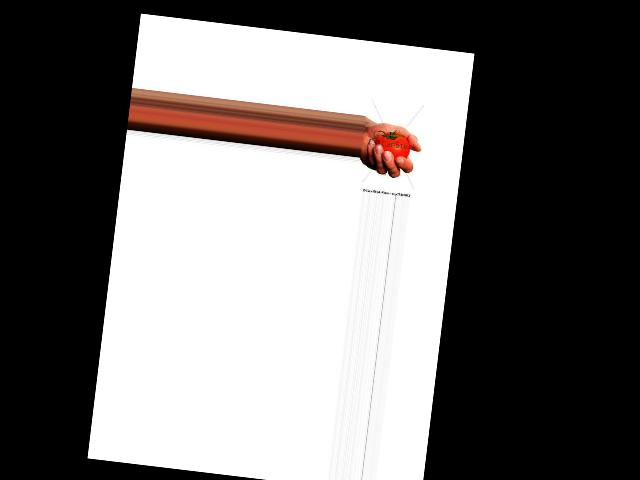tomato: (373, 130, 412, 159)
